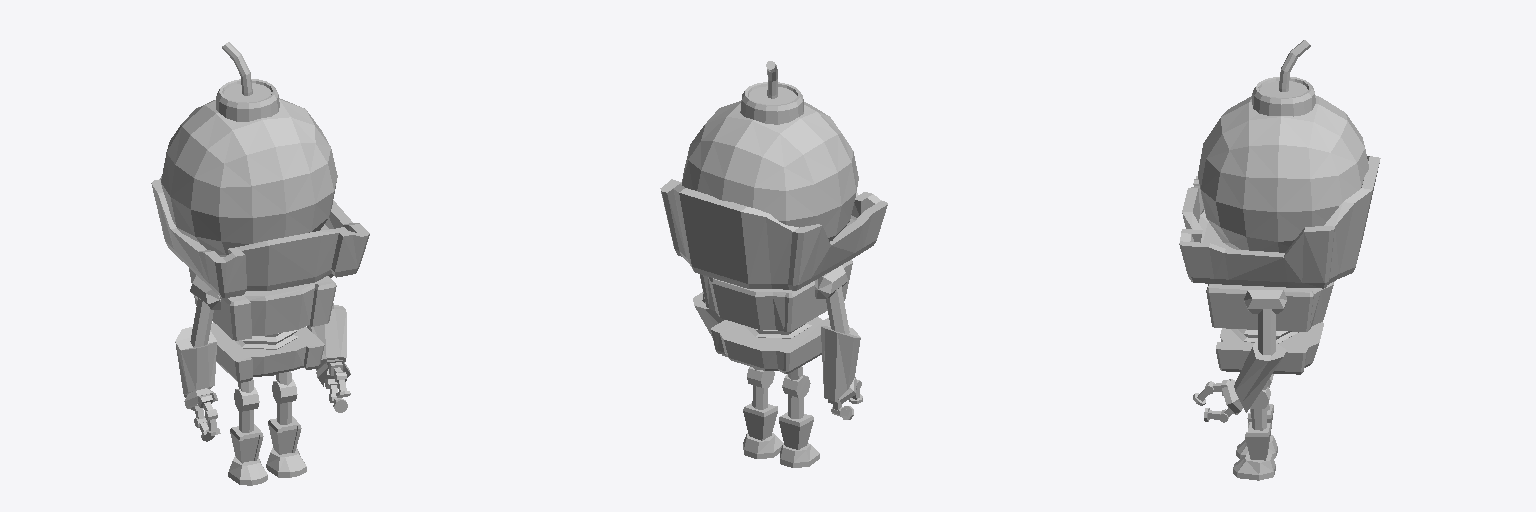
The picture shows the model from 3 angles: view 1: azimuth 30°, elevation 25°; view 2: azimuth 150°, elevation 25°; view 3: azimuth 270°, elevation 25°; orthographic projection.
Visible parts, largest first — view 1: bomb bombot, bombot body top polySurface20 polySurface18, bombot body top, bombot body bottom, bombot body top arms polySurface51 arm_left polySurface38 polySu, bomb bombot bomb, bombot body bottom polySurface13 leg_Right polySurface11 polySur, bombot body bottom polySurface13 leg_left polySurface5 polySurfa, bombot body top arm_right arms polySurface23 polySurface35, bombot body top arm_right arms polySurface23 polySurface35 polyS, bombot body top arm_right arms polySurface23, bombot body (+2 smaller); view 2: bomb bombot, bombot body top polySurface20 polySurface18, bombot body top, bombot body bottom, bombot body top arm_right arms polySurface23 polySurface35, bomb bombot bomb, bombot body bottom polySurface13 leg_Right polySurface11 polySur, bombot body bottom polySurface13 leg_left polySurface5 polySurfa, bombot body top arm_right arms polySurface23, bombot body top arm_right arms, bombot body top arm_right arms polySurface23 polySurface35 polyS; view 3: bomb bombot, bombot body top polySurface20 polySurface18, bombot body top, bombot body top arms polySurface51 arm_left polySurface38 polySu, bombot body bottom, bomb bombot bomb, bombot body bottom polySurface13 leg_Right polySurface11 polySur, bombot body top arms polySurface51 arm_left, bombot body top arms polySurface51 arm_left polySurface38, bomb bombot bomb wick.
Boxes of the visible parts, box(x1,y1,x2,y2) form: bomb bombot: box(161, 98, 337, 256); bombot body top polySurface20 polySurface18: box(151, 176, 369, 297); bombot body top: box(189, 268, 336, 340); bombot body bottom: box(210, 322, 324, 382); bombot body top arms polySurface51 arm_left polySurface38 polySu: box(307, 305, 350, 412); bomb bombot bomb: box(216, 79, 279, 121); bombot body bottom polySurface13 leg_Right polySurface11 polySur: box(266, 402, 306, 477); bombot body bottom polySurface13 leg_left polySurface5 polySurfa: box(228, 410, 267, 485); bombot body top arm_right arms polySurface23 polySurface35: box(175, 327, 216, 397); bombot body top arm_right arms polySurface23 polySurface35 polyS: box(184, 388, 220, 441); bombot body top arm_right arms polySurface23: box(190, 298, 213, 347); bombot body: box(234, 330, 297, 349); bomb bombot: box(682, 101, 858, 241); bombot body top polySurface20 polySurface18: box(660, 179, 887, 290); bombot body top: box(700, 259, 852, 331); bombot body bottom: box(711, 317, 829, 373); bombot body top arm_right arms polySurface23 polySurface35: box(821, 326, 860, 401); bomb bombot bomb: box(740, 82, 803, 124); bombot body bottom polySurface13 leg_Right polySurface11 polySur: box(743, 385, 782, 458); bombot body bottom polySurface13 leg_left polySurface5 polySurfa: box(779, 395, 819, 467); bombot body top arm_right arms polySurface23: box(826, 286, 849, 333); bombot body top arm_right arms: box(815, 265, 847, 298); bombot body top arm_right arms polySurface23 polySurface35 polyS: box(828, 377, 862, 419); bomb bombot: box(1198, 95, 1368, 252); bombot body top polySurface20 polySurface18: box(1179, 156, 1380, 288); bombot body top: box(1206, 281, 1334, 331); bombot body top arms polySurface51 arm_left polySurface38 polySu: box(1193, 341, 1286, 422); bombot body bottom: box(1216, 322, 1323, 374); bomb bombot bomb: box(1252, 77, 1315, 116); bombot body bottom polySurface13 leg_Right polySurface11 polySur: box(1233, 407, 1275, 480); bombot body top arms polySurface51 arm_left: box(1244, 286, 1286, 313); bombot body top arms polySurface51 arm_left polySurface38: box(1258, 309, 1275, 355); bomb bombot bomb wick: box(1279, 40, 1310, 91).
Bounding box in the file's own units: 4.26 × 10.09 × 4.42.